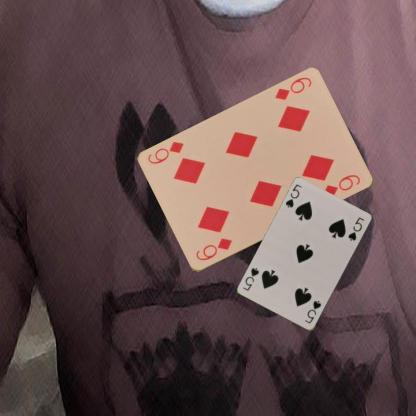5s: (302, 298, 323, 325), (283, 182, 303, 209)
6d: (272, 75, 313, 102), (193, 236, 233, 262)
